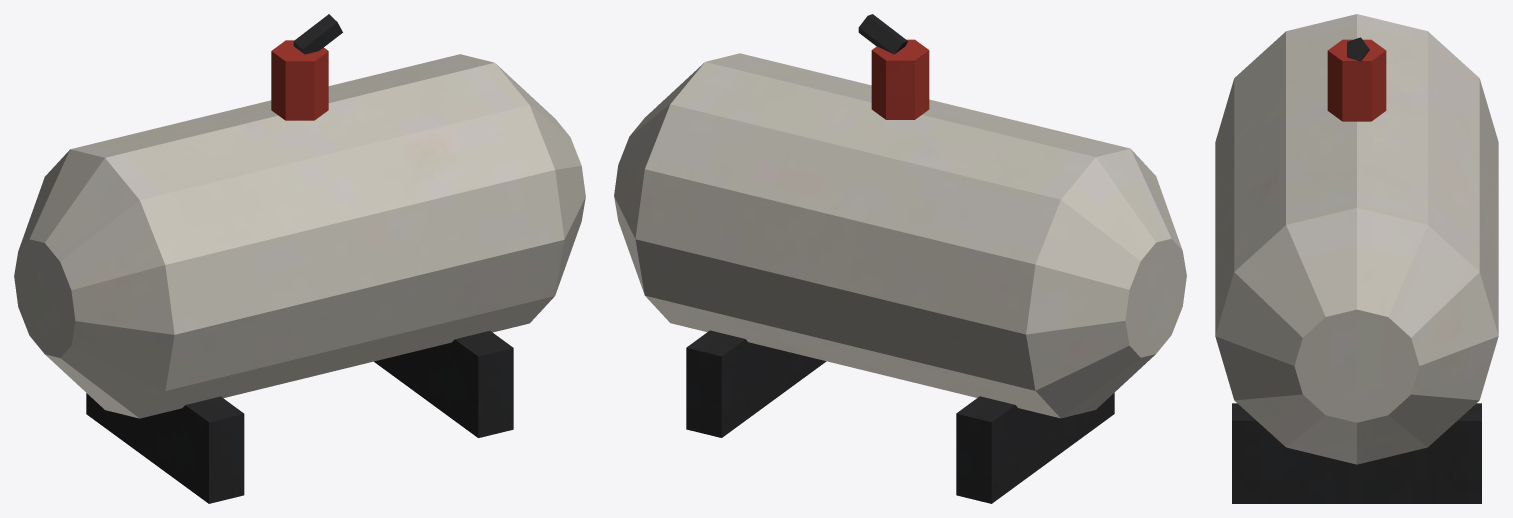
File: propane_tank_01.glb
3 views of the same model, side by side, from view 1: azimuth 30°, elevation 25°; view 2: azimuth 150°, elevation 25°; view 3: azimuth 270°, elevation 25° (orthographic).
Visible parts, largest first — view 1: propane_tank_01; view 2: propane_tank_01; view 3: propane_tank_01.
Part boxes in pixels (x1,y1,x2,y2): propane_tank_01: (14, 14, 585, 503); propane_tank_01: (614, 14, 1186, 503); propane_tank_01: (1215, 14, 1498, 503).
Size of the model in its own units: 1.44 by 1.08 by 0.68.
Materials: 3 (3 with a texture image).
